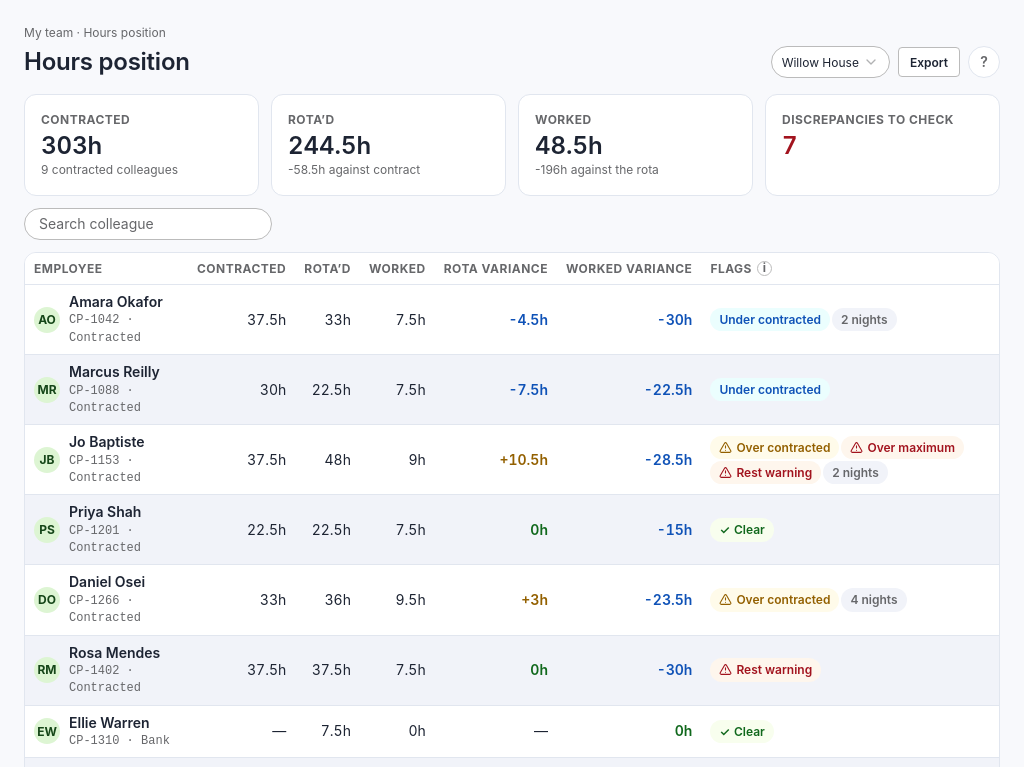
Hours position › the tiles, a row per colleague with both variances and the flags, a bank worker, search, with full test id coverage
Expected: the dropdown with test id "thours-location" reads "Willow House", [771, 46, 890, 78]
Expected: the text "7" is not empty, [782, 131, 798, 160]
Type "ellie" into the search field with test id "thours-search" at (148, 224), box [24, 208, 272, 240]
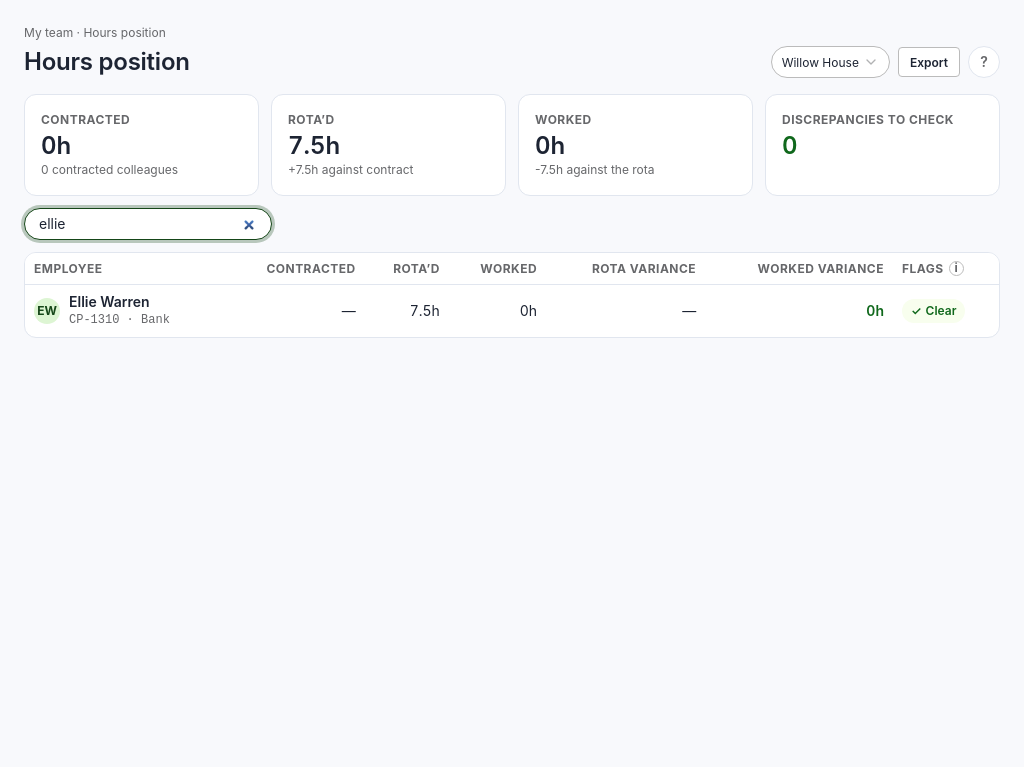
Expected: the text with test id "thours-contracted" reads "0h", [41, 131, 71, 160]
Expected: the text with test id "thours-rotad" reads "7.5h", [288, 131, 340, 160]
Expected: the text with test id "thours-discrepancies" reads "0", [782, 131, 798, 160]
Type "zzz" into the search field with test id "thours-search" at (148, 224), box [24, 208, 272, 240]
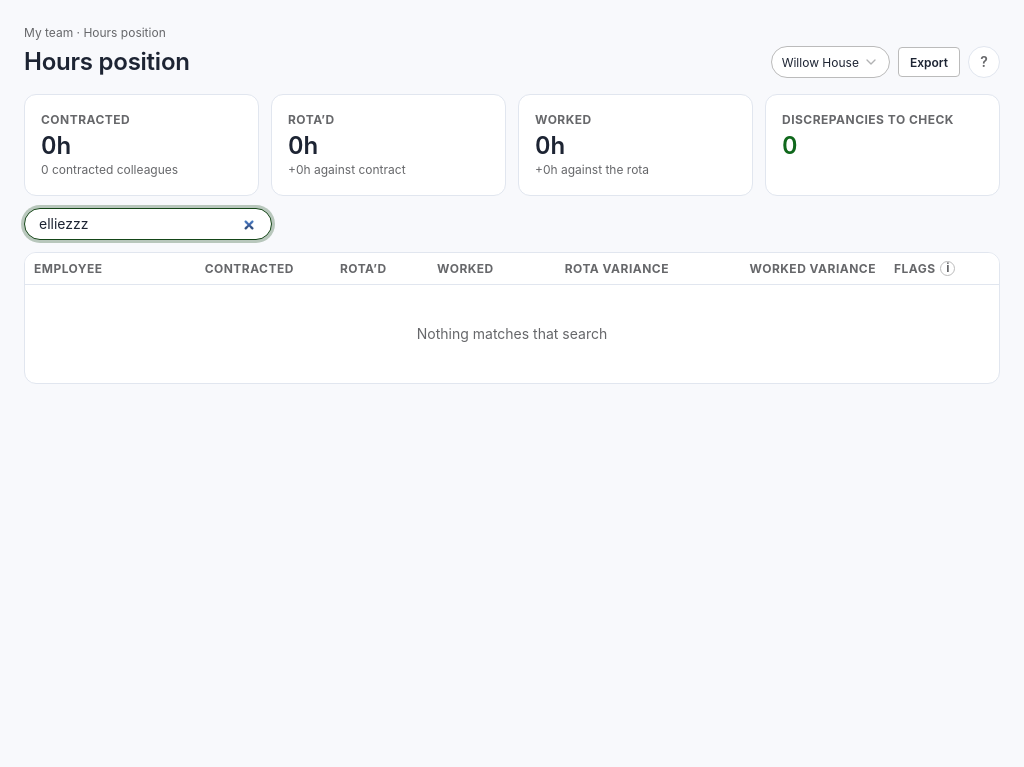
Expected: the row with test id "thours-empty" reads "Nothing matches that search", [417, 325, 607, 342]
